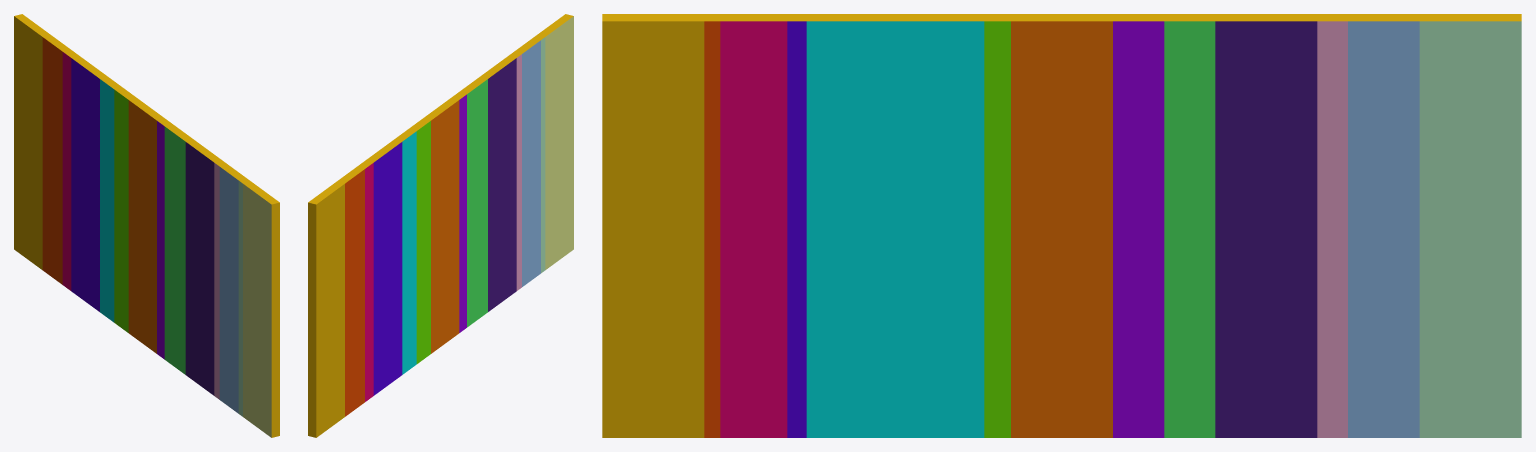
Rendered from VideoWallStripes.fbx.
3 renders of one model, left to right at view 1: azimuth 30°, elevation 25°; view 2: azimuth 150°, elevation 25°; view 3: azimuth 270°, elevation 25°, orthographic. The views are drawn at different scales.
Parts seen in each view (by area): view 1: Cube; view 2: Cube; view 3: Cube.
Part boxes in pixels (x1,y1,x2,y2): Cube: (14,14,279,437); Cube: (308,14,573,437); Cube: (602,14,1521,437).
Bounding box in the file's own units: 14.98 × 400 × 800.
